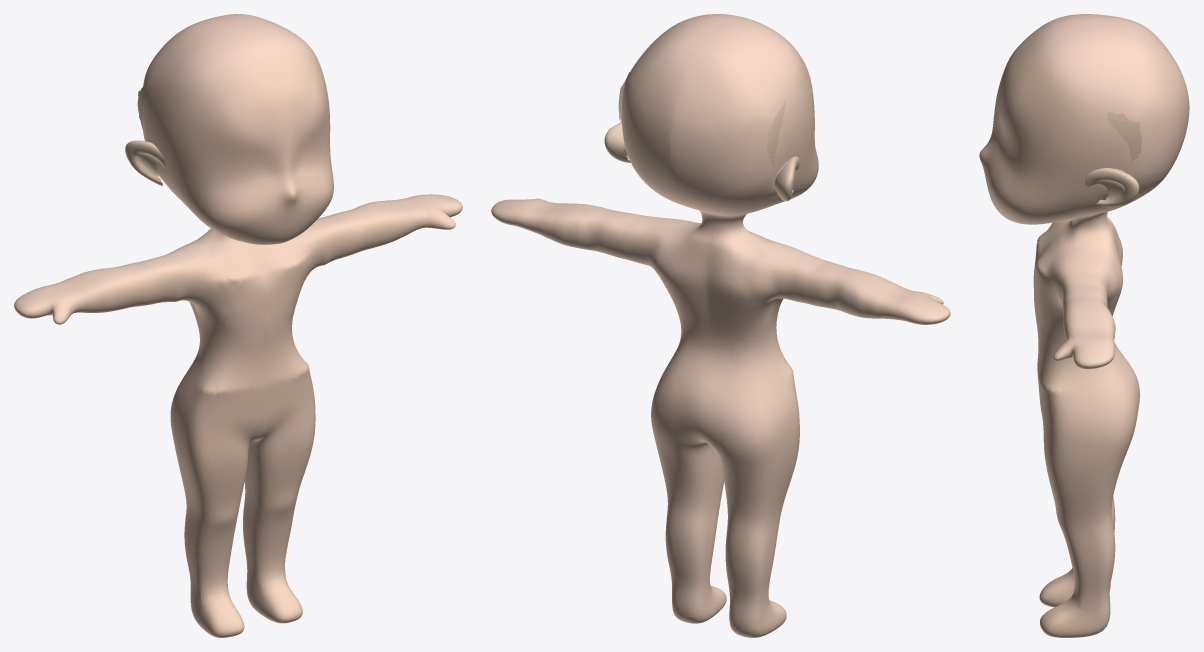
Rendered from char_namja_base_v19.glb.
3 renders of one model, left to right at view 1: azimuth 30°, elevation 25°; view 2: azimuth 150°, elevation 25°; view 3: azimuth 270°, elevation 25°, orthographic. The views are drawn at different scales.
Size of the model in its own units: 1.49 by 1.9 by 0.6085.
Materials: 2 (2 with a texture image).
